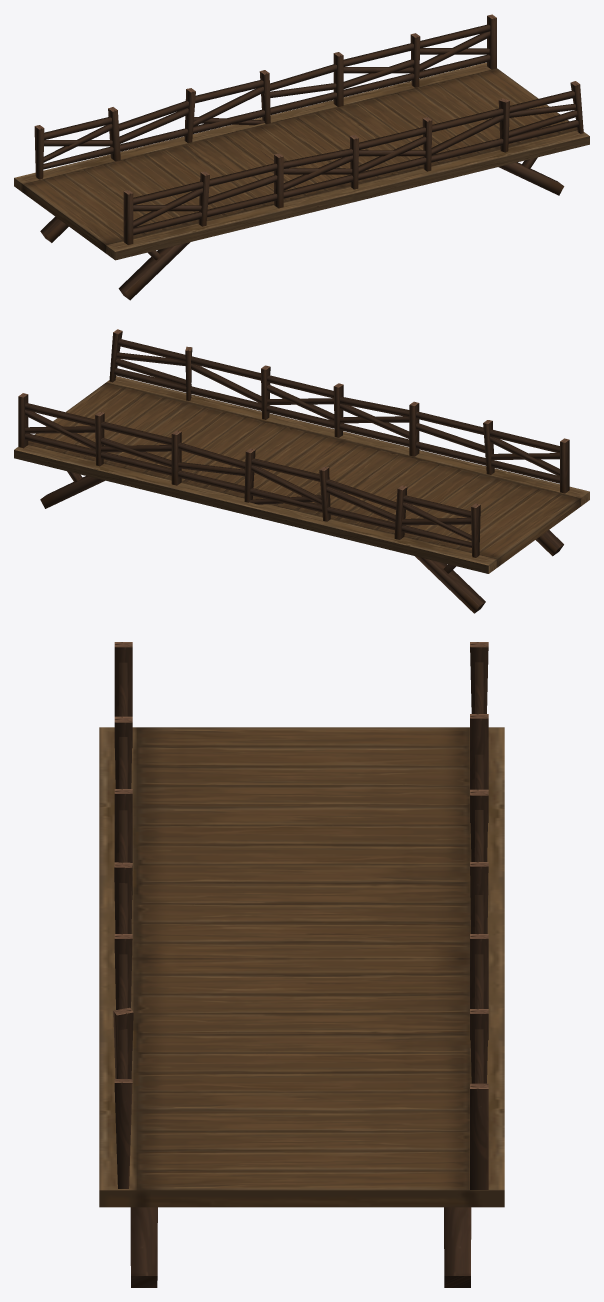
The model's file is outdoorM_bridge.FBX.
3 renders of one model, top to bottom at view 1: azimuth 30°, elevation 25°; view 2: azimuth 150°, elevation 25°; view 3: azimuth 270°, elevation 25°, orthographic. The views are drawn at different scales.
Parts seen in each view (by area): view 1: outdoorM_bridge; view 2: outdoorM_bridge; view 3: outdoorM_bridge.
Boxes of the visible parts, x1,y1,x2,y2 form: outdoorM_bridge: [14, 14, 589, 300]; outdoorM_bridge: [14, 329, 589, 613]; outdoorM_bridge: [99, 642, 504, 1287].
Size of the model in its own units: 180 by 40.18 by 66.64.
